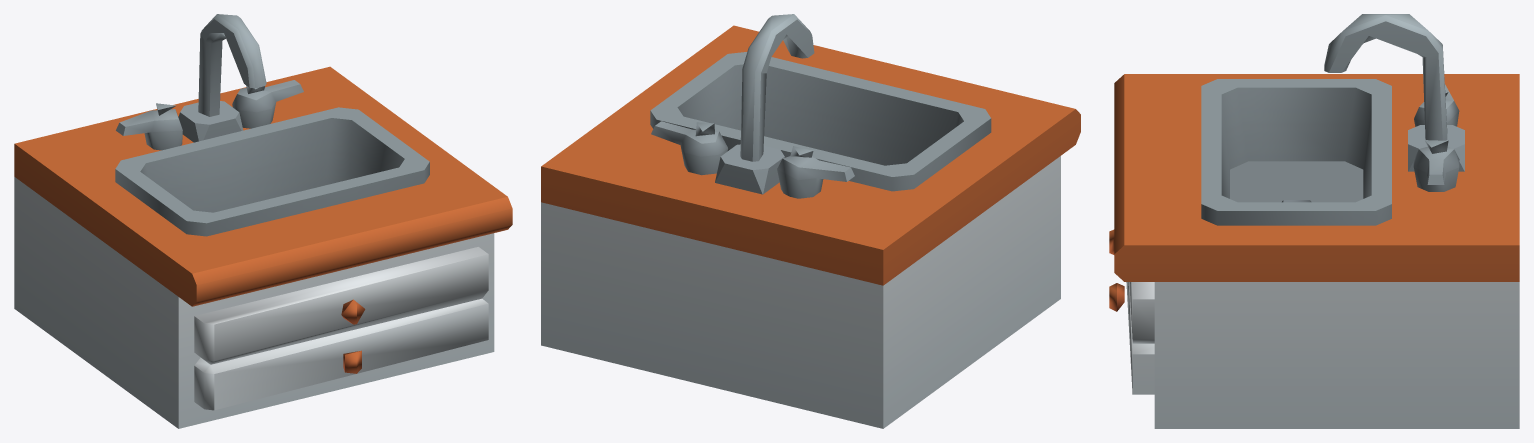
The model's file is cc0-kitchencounter-sink-lod1.glb.
3 views of the same model, side by side, from view 1: azimuth 30°, elevation 25°; view 2: azimuth 150°, elevation 25°; view 3: azimuth 270°, elevation 25° (orthographic). The views are drawn at different scales.
Visible parts, largest first — view 1: part_0; view 2: part_0; view 3: part_0.
Boxes of the visible parts, box(x1,y1,x2,y2) form: part_0: box(14, 14, 512, 428); part_0: box(541, 14, 1080, 428); part_0: box(1109, 14, 1519, 428).
Bounding box in the file's own units: 2 × 1.8 × 2.02.
1 material, 1 textured.
